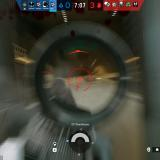Character: (43, 77, 77, 108)
Head: (54, 78, 66, 94)
